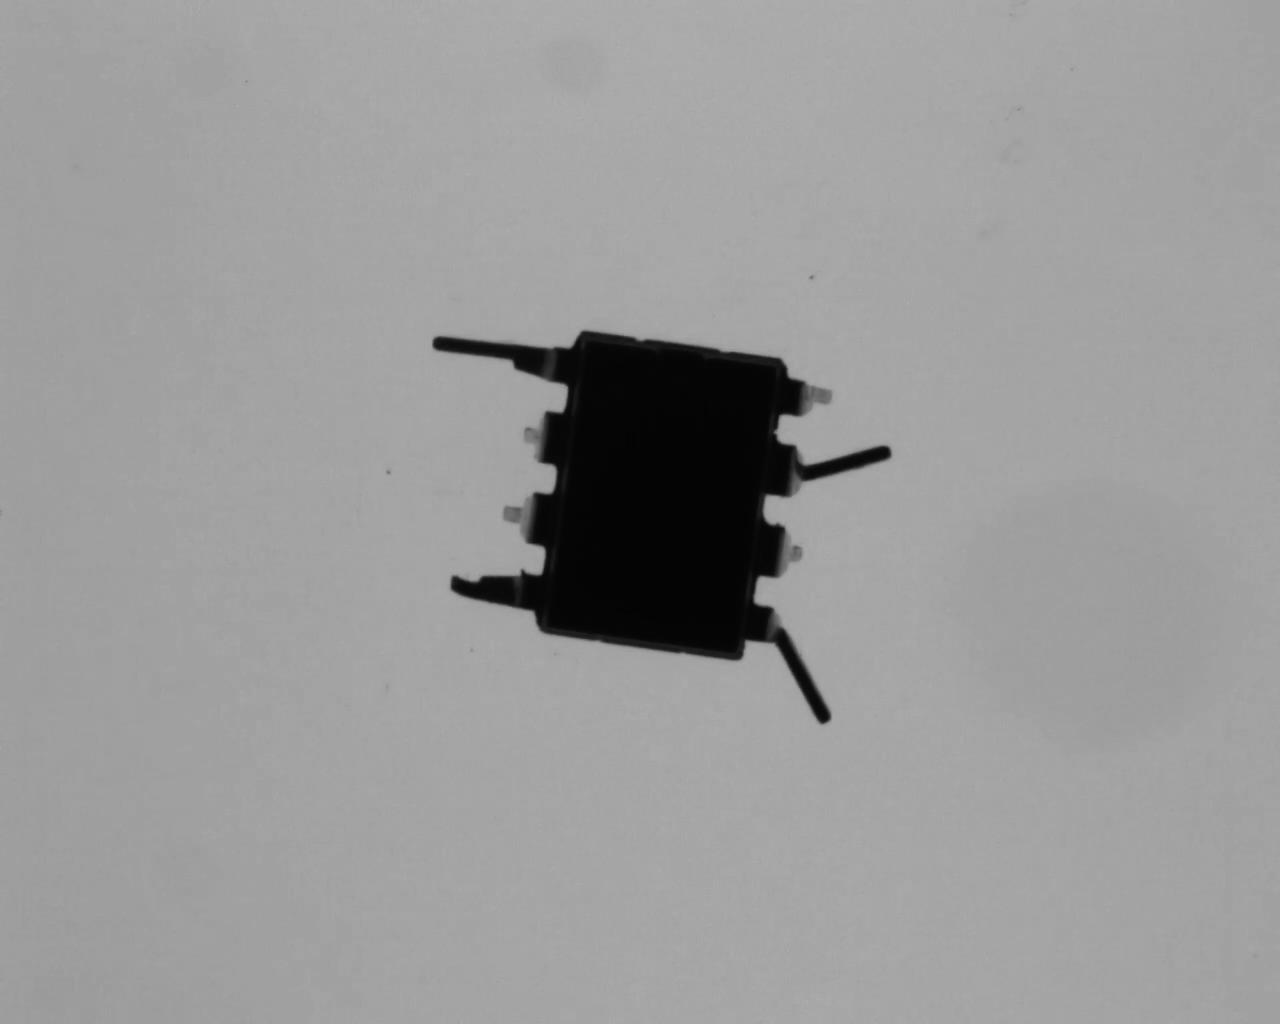Leg: (748, 600, 835, 726), (427, 328, 575, 393), (770, 436, 895, 503), (442, 564, 551, 623), (495, 490, 560, 553), (517, 408, 573, 470), (772, 374, 836, 425), (761, 518, 812, 580)
